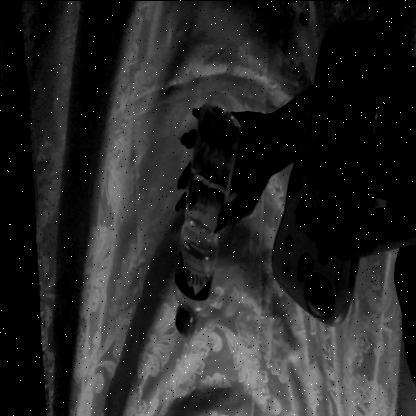Plastic Bottle: (152, 73, 245, 360)
